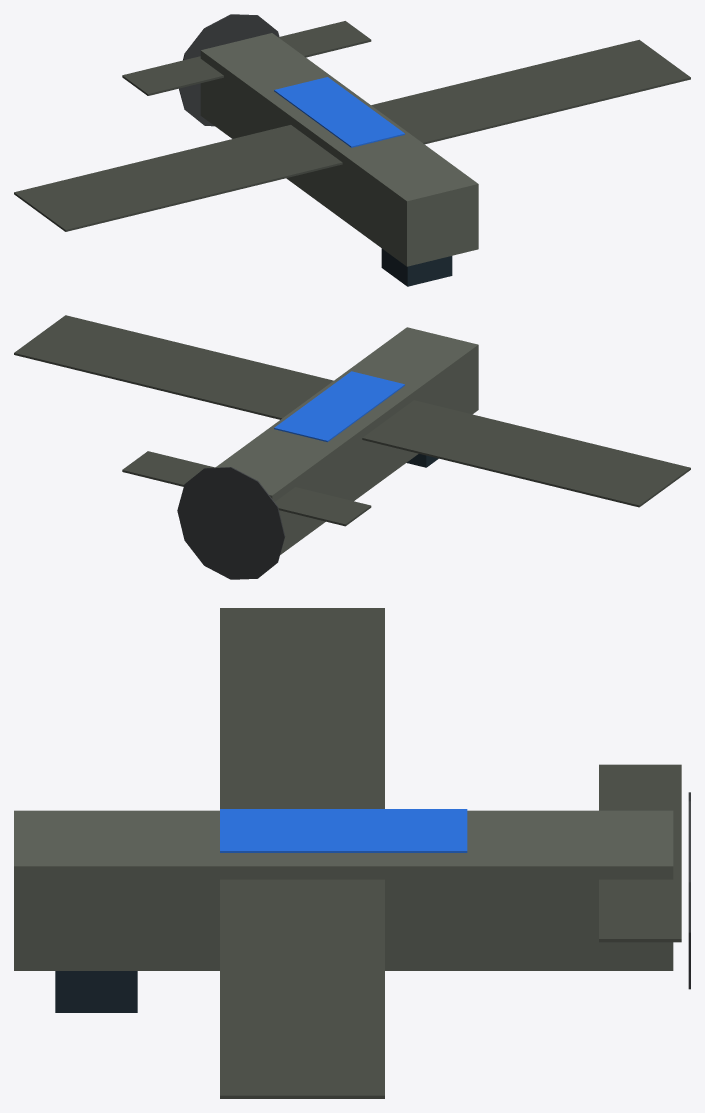
The model's file is eu_fighter.glb.
3 renders of one model, top to bottom at view 1: azimuth 30°, elevation 25°; view 2: azimuth 150°, elevation 25°; view 3: azimuth 270°, elevation 25°, orthographic. The views are drawn at different scales.
Visible parts, largest first — view 1: wing, body, team_plate, tail, prop, camera_pod; view 2: wing, body, prop, team_plate, tail; view 3: body, wing, team_plate, tail, camera_pod.
Boxes of the visible parts, x1,y1,x2,y2 form: wing: (14, 39, 690, 231); body: (200, 33, 478, 266); team_plate: (274, 77, 404, 147); tail: (122, 21, 371, 95); prop: (179, 14, 279, 126); camera_pod: (381, 248, 452, 286); wing: (14, 315, 690, 507); body: (215, 327, 478, 554); prop: (177, 467, 285, 579); team_plate: (274, 371, 404, 442); tail: (122, 451, 371, 526); body: (14, 810, 673, 970); wing: (220, 608, 384, 1098); team_plate: (220, 809, 467, 852); tail: (599, 764, 681, 942); camera_pod: (55, 971, 137, 1012).
Size of the model in its own units: 9.8 by 1.82 by 5.75.
